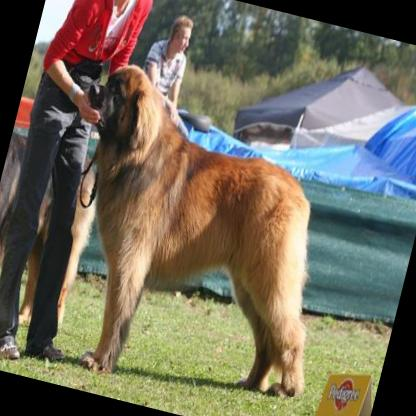Leonberg: (27, 52, 370, 416)
